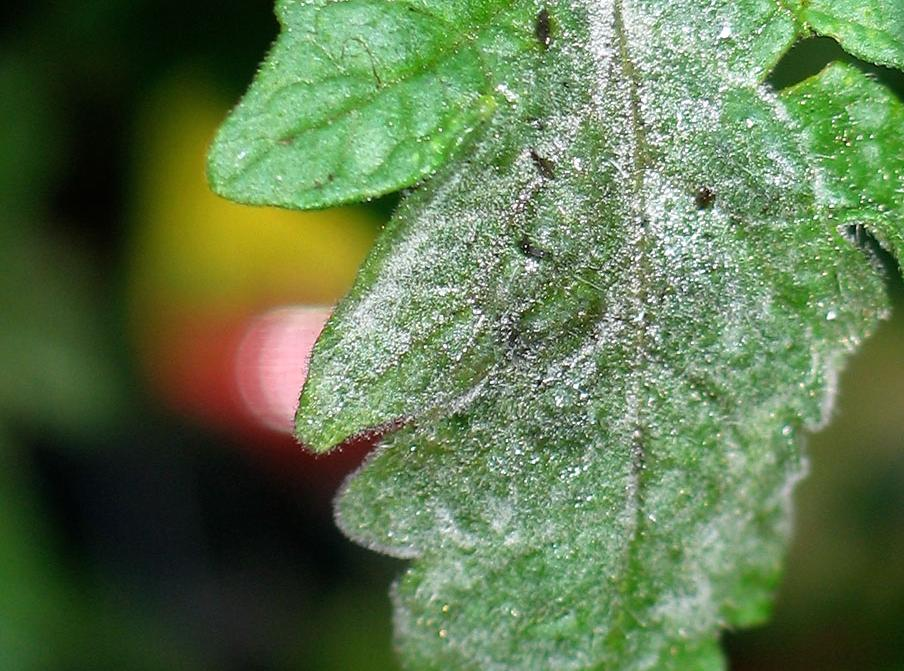Tomato leaf late blight: (217, 0, 904, 671)
